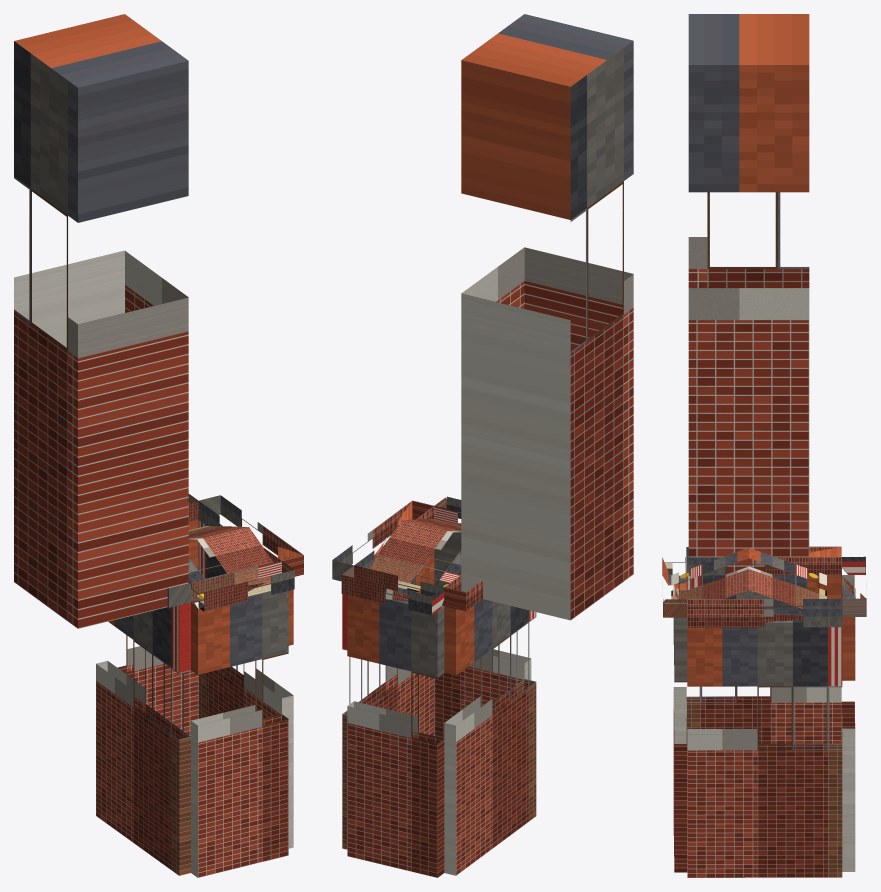
3 renders of one model, left to right at view 1: azimuth 30°, elevation 25°; view 2: azimuth 150°, elevation 25°; view 3: azimuth 270°, elevation 25°, orthographic. The views are drawn at different scales.
Parts seen in each view (by area): view 1: 1107107802__chimney_0_xb, 1107107802__wall_0_xb, 1107107802__wall_1_xb, 1107107802__wall_3_xb, 1107107802__wall_2_xb, 1107107802_roof_-1_xb, 1107107802__cornice_0, 1107107802__cornice_3; view 2: 1107107802__chimney_0_xb, 1107107802__wall_2_xb, 1107107802__wall_1_xb, 1107107802__wall_0_xb, 1107107802__wall_3_xb, 1107107802_roof_1_xb, 1107107802__cornice_2, 1107107802__cornice_3, 1107107802__cornice_1, 1107107802__cornice_0; view 3: 1107107802__chimney_0_xb, 1107107802__wall_3_xb, 1107107802__wall_1_xb, 1107107802__cornice_3, 1107107802__wall_0_xb, 1107107802__wall_2_xb, 1107107802_roof_1_xb, 1107107802_roof_-1_xb, 1107107802__cornice_1, 1107107802__cornice_2, 1107107802__cornice_0.
Boxes of the visible parts, bbox=[...] form: 1107107802__chimney_0_xb: bbox=[14, 14, 188, 628]; 1107107802__wall_0_xb: bbox=[191, 591, 288, 877]; 1107107802__wall_1_xb: bbox=[96, 602, 190, 875]; 1107107802__wall_3_xb: bbox=[198, 520, 293, 848]; 1107107802__wall_2_xb: bbox=[117, 520, 198, 736]; 1107107802_roof_-1_xb: bbox=[188, 527, 273, 608]; 1107107802__cornice_0: bbox=[191, 560, 294, 611]; 1107107802__cornice_3: bbox=[198, 495, 303, 576]; 1107107802__chimney_0_xb: bbox=[461, 14, 633, 620]; 1107107802__wall_2_xb: bbox=[347, 592, 444, 877]; 1107107802__wall_1_xb: bbox=[444, 599, 536, 875]; 1107107802__wall_0_xb: bbox=[434, 532, 531, 738]; 1107107802__wall_3_xb: bbox=[342, 551, 434, 849]; 1107107802_roof_1_xb: bbox=[369, 520, 461, 591]; 1107107802__cornice_2: bbox=[341, 565, 444, 615]; 1107107802__cornice_3: bbox=[332, 500, 434, 581]; 1107107802__cornice_1: bbox=[444, 575, 482, 611]; 1107107802__cornice_0: bbox=[434, 496, 461, 525]; 1107107802__chimney_0_xb: bbox=[688, 14, 809, 573]; 1107107802__wall_3_xb: bbox=[687, 619, 842, 877]; 1107107802__wall_1_xb: bbox=[686, 575, 841, 743]; 1107107802__cornice_3: bbox=[687, 599, 842, 627]; 1107107802__wall_0_xb: bbox=[673, 577, 687, 872]; 1107107802__wall_2_xb: bbox=[841, 575, 855, 871]; 1107107802_roof_1_xb: bbox=[749, 548, 826, 608]; 1107107802_roof_-1_xb: bbox=[671, 548, 748, 599]; 1107107802__cornice_1: bbox=[686, 546, 841, 575]; 1107107802__cornice_2: bbox=[841, 556, 866, 616]; 1107107802__cornice_0: bbox=[662, 557, 687, 617].
Size of the model in its own units: 0.3049 by 1.05 by 0.2537.
Materials: 1 (1 with a texture image).
